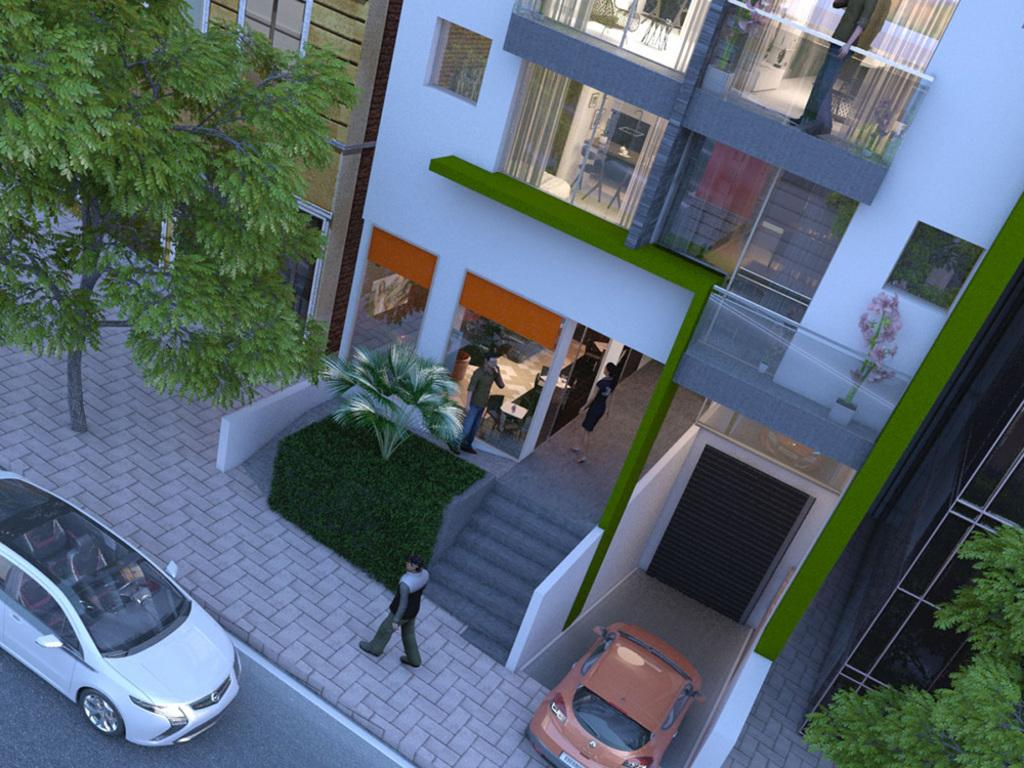Car: (0, 500, 240, 755), (529, 623, 702, 767)
